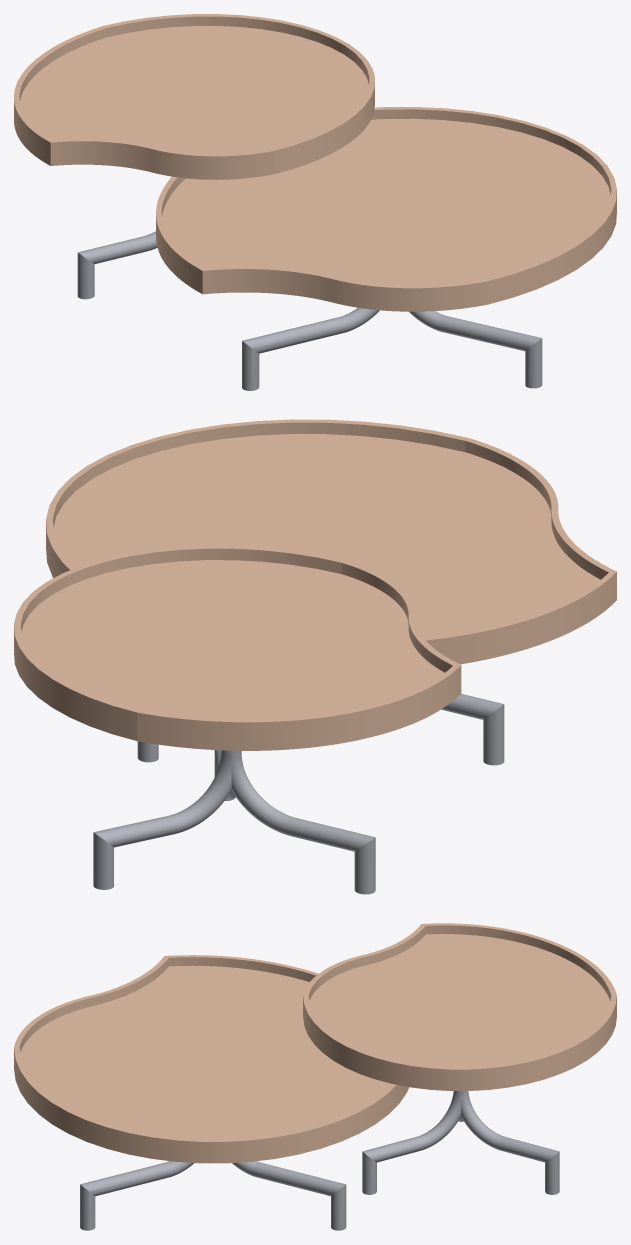
Rendered from mesa-de-centro-tempranillo.glb.
The picture shows the model from 3 angles, top to bottom: view 1: azimuth 30°, elevation 25°; view 2: azimuth 150°, elevation 25°; view 3: azimuth 270°, elevation 25°; orthographic projection. The views are drawn at different scales.
Size of the model in its own units: 0.9553 by 0.39 by 1.27.
